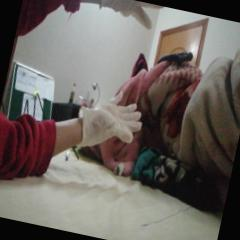gloved: (72, 84, 146, 159), (96, 0, 165, 33)
